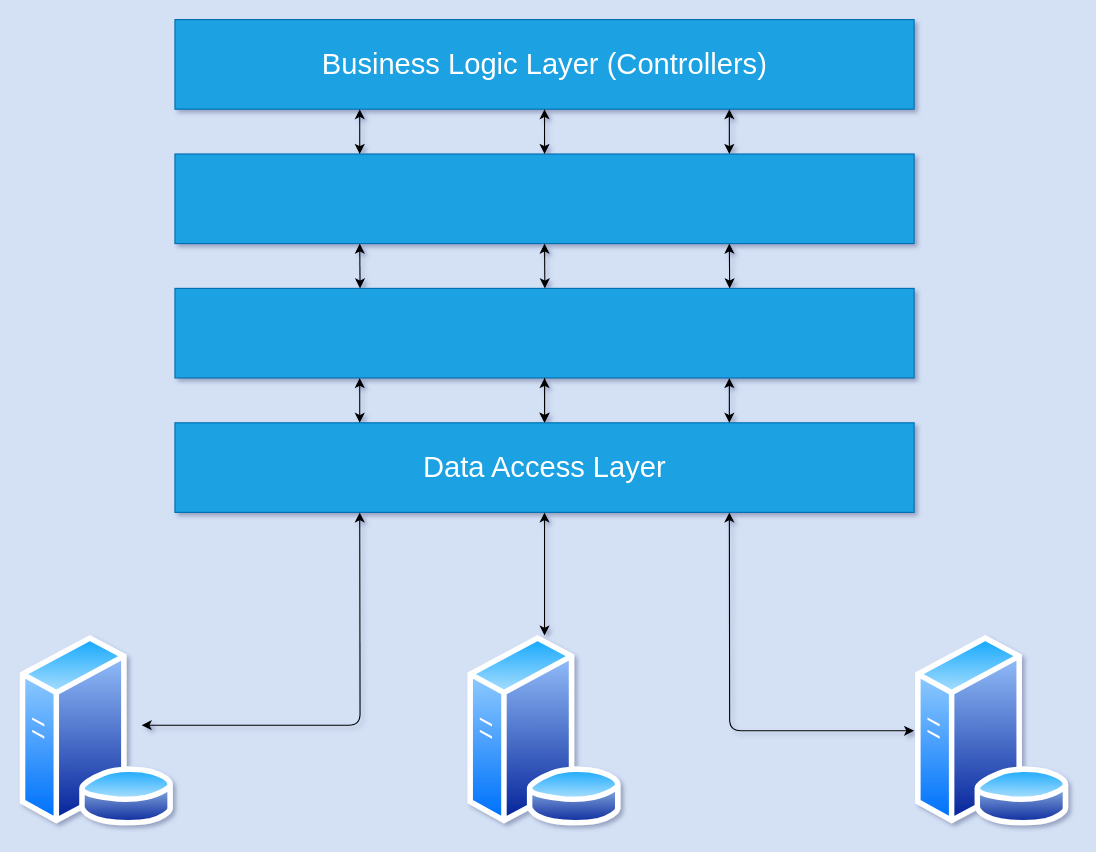
Some shapes in this 1096 by 852 pixel diagram are drawn without their labels. The centre of each missing label's shape, as x and y in pixels:
"Repository Layer" goes at point (544, 332).
"Service Layer" goes at point (544, 198).
